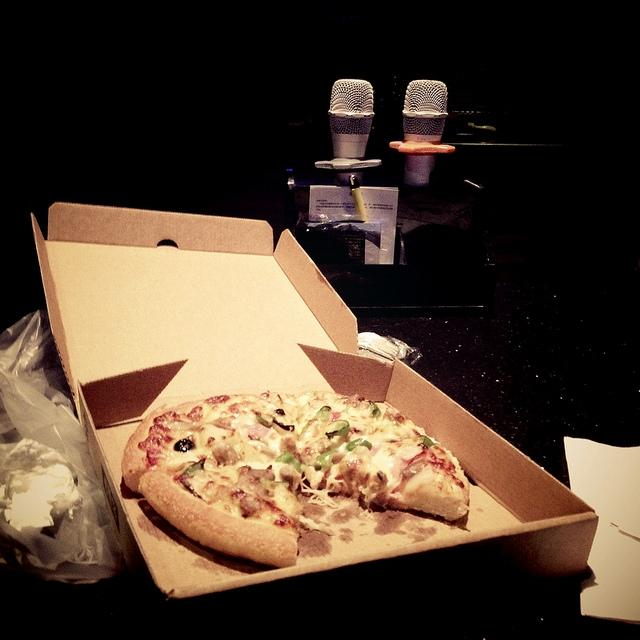bell pepper: (275, 452, 301, 473), (314, 450, 339, 468), (326, 420, 348, 438), (182, 458, 205, 474), (346, 439, 372, 451), (313, 405, 331, 420), (256, 414, 273, 429), (369, 400, 382, 418), (424, 436, 434, 448)
